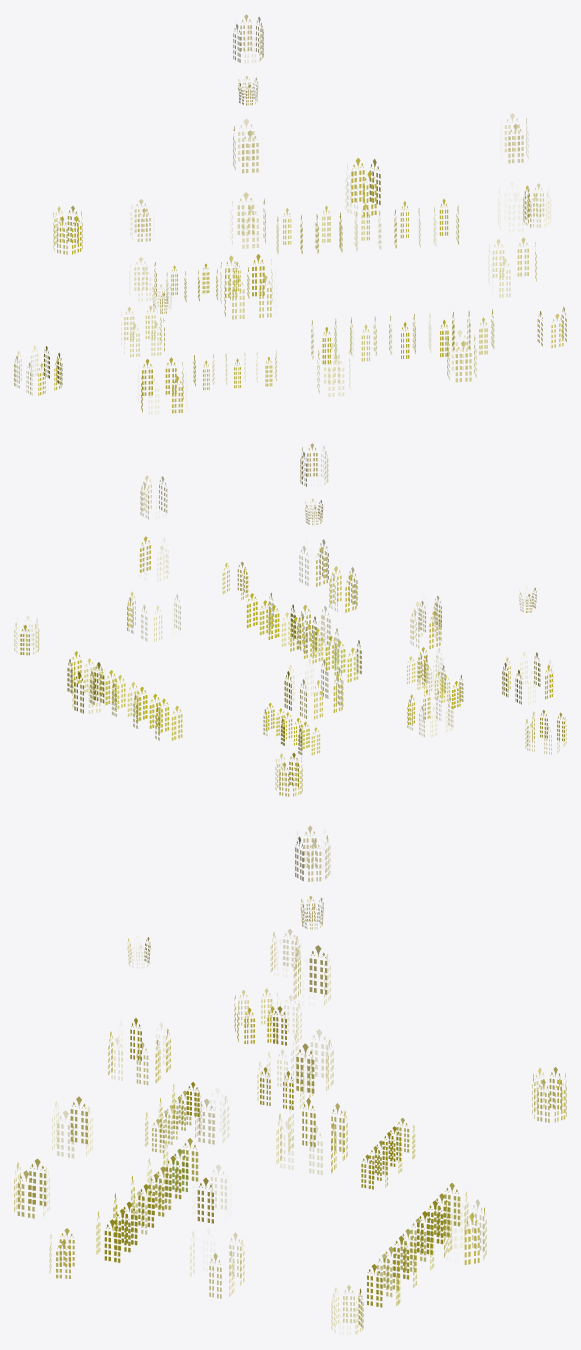
File: gothic-castle-lod1.glb
3 views of the same model, one above another, from view 1: azimuth 30°, elevation 25°; view 2: azimuth 150°, elevation 25°; view 3: azimuth 270°, elevation 25° (orthographic). The views are drawn at different scales.
Parts seen in each view (by area): view 1: 窗玻璃; view 2: 窗玻璃; view 3: 窗玻璃.
Boxes of the visible parts, box(x1,y1,x2,y2) form: 窗玻璃: box(14, 14, 566, 413); 窗玻璃: box(14, 443, 566, 796); 窗玻璃: box(14, 825, 566, 1334).
Size of what is drawn, in the model's own units: 90.24 by 45.61 by 66.74.
